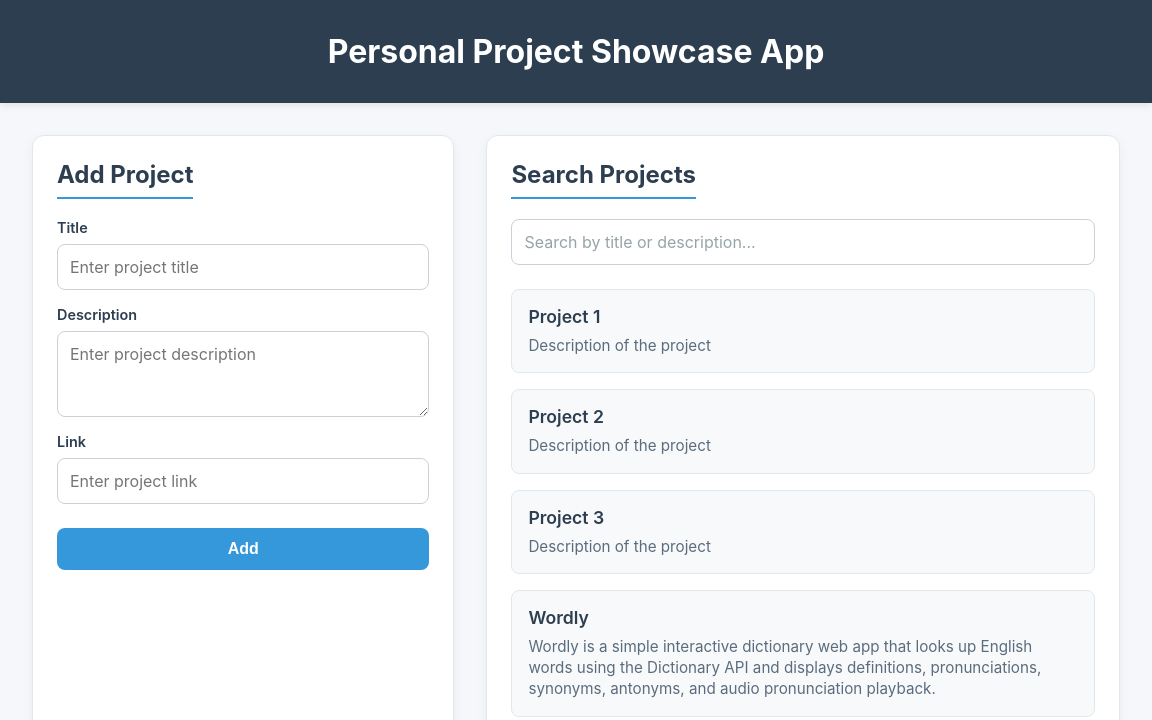
Test: App Component › filters projects based on search term
In the field with placeholder "Search by title or description...": (803, 242) 511,219 -> 1095,265, type "Project 1"
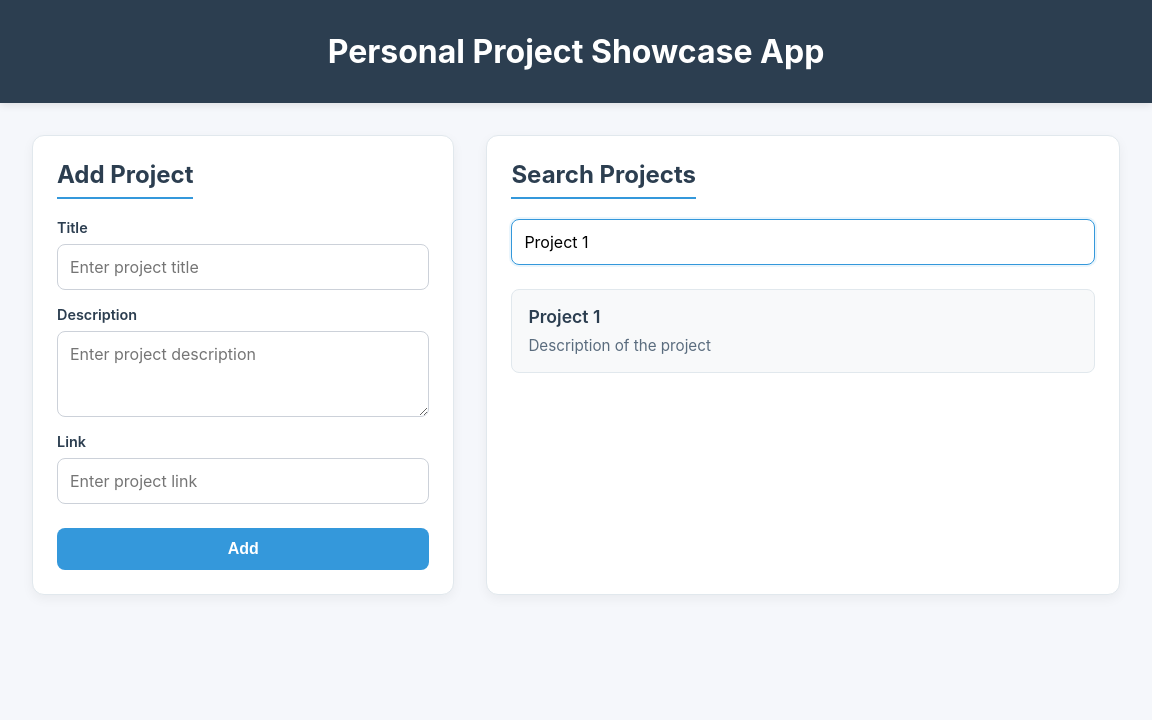
Expected: the heading "Project 1" is shown, 528,306 -> 600,327
Expected: the heading "Project 2" is gone
Expected: the heading "Project 3" is gone
